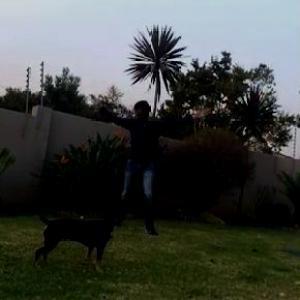takeoff: (96, 89, 225, 225)
